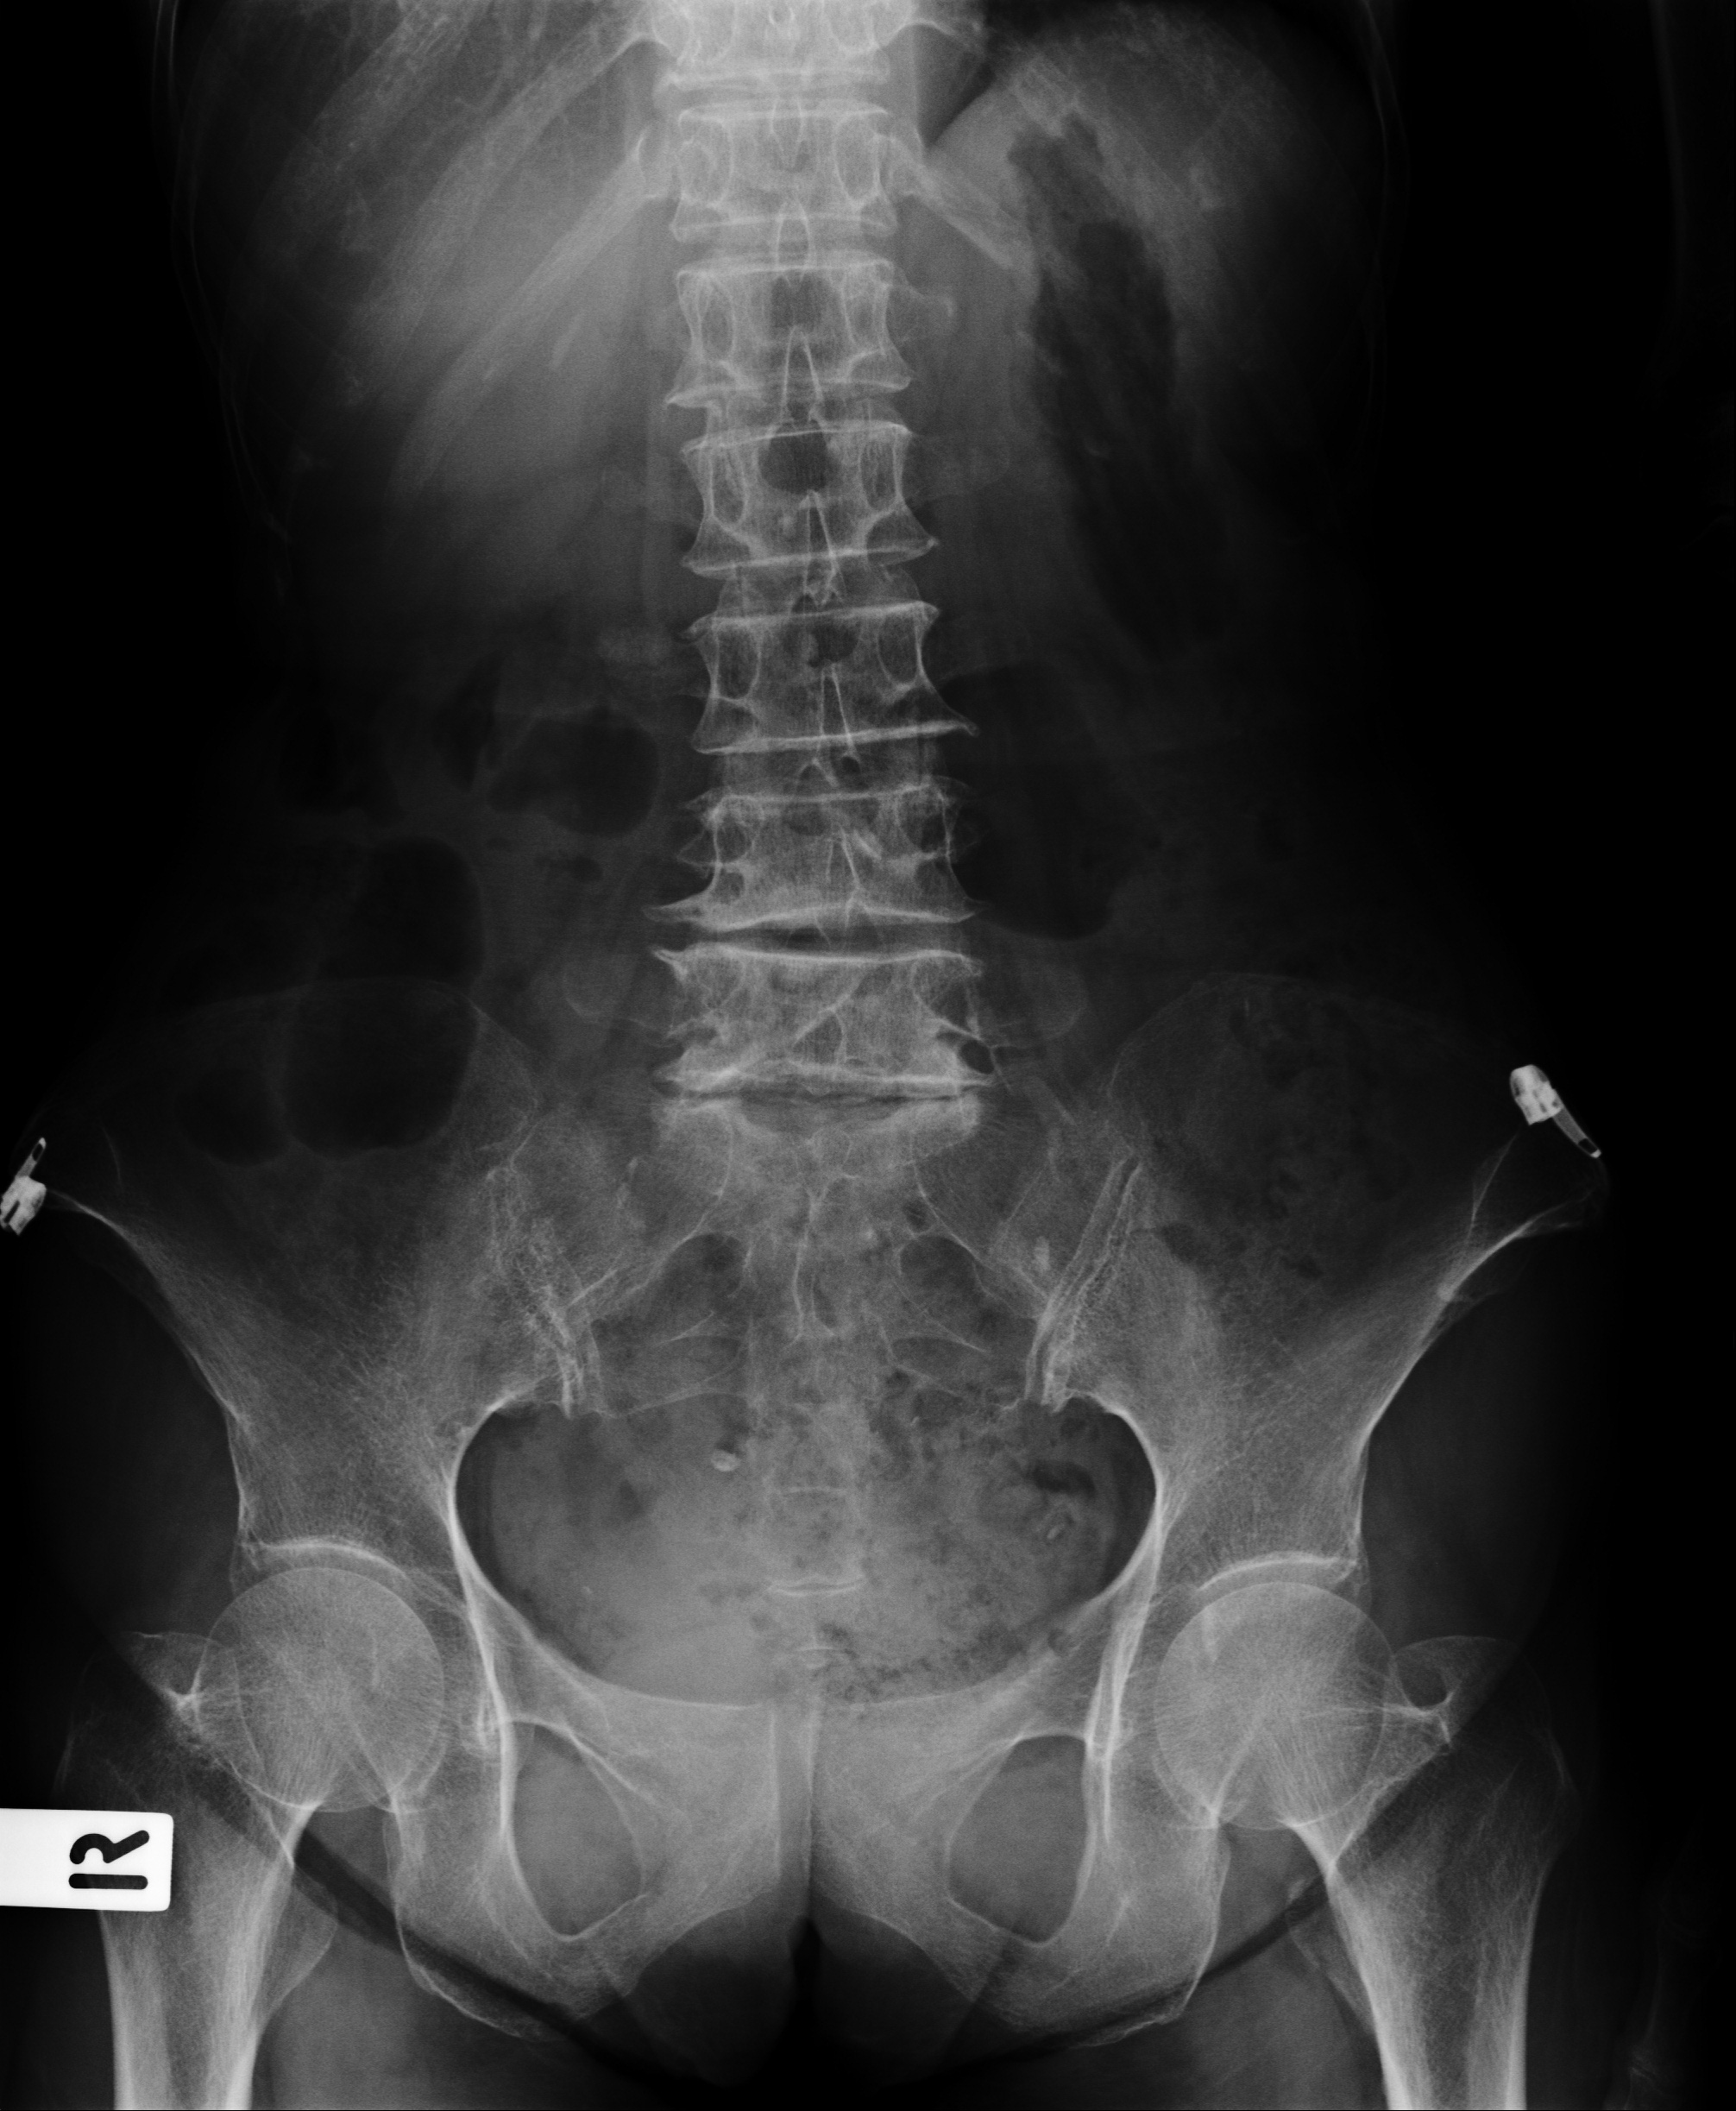lumbar scoliosis: (640, 4, 987, 1257)
